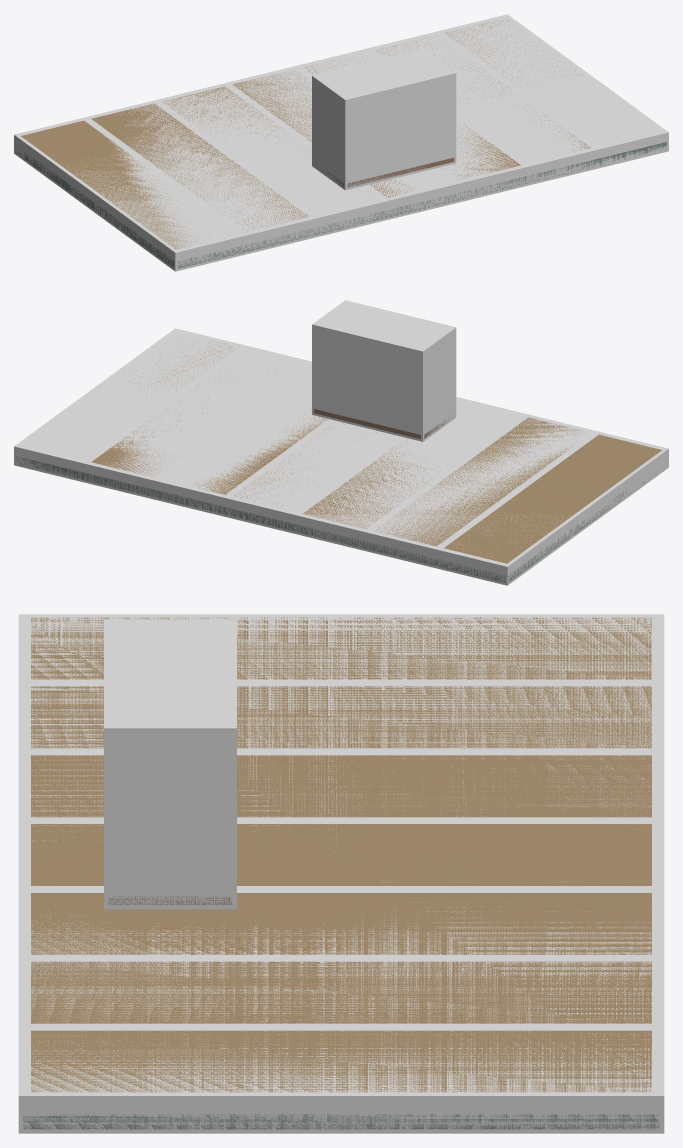
Rendered from env-dais-a.glb.
3 renders of one model, top to bottom at view 1: azimuth 30°, elevation 25°; view 2: azimuth 150°, elevation 25°; view 3: azimuth 270°, elevation 25°, orthographic. The views are drawn at different scales.
Visible parts, largest first — view 1: COL_dais, COL_lectern, VIS_dais_plank_1, VIS_dais_plank_2, VIS_dais_base, VIS_dais_plank_4, VIS_dais_plank_3, VIS_dais_plank_5, VIS_lectern_foot, VIS_dais_plank_7; view 2: COL_dais, COL_lectern, VIS_dais_plank_1, VIS_dais_plank_2, VIS_dais_base, VIS_dais_plank_3, VIS_dais_plank_5, VIS_dais_plank_6, VIS_lectern_foot; view 3: COL_dais, VIS_dais_plank_6, COL_lectern, VIS_dais_plank_7, VIS_dais_plank_5, VIS_dais_plank_3, VIS_dais_plank_4, VIS_dais_plank_2, VIS_dais_plank_1, VIS_dais_base.
Part boxes in pixels (x1=…): COL_dais: x1=14, y1=14, x2=668, y2=271; COL_lectern: x1=312, y1=49, x2=456, y2=190; VIS_dais_plank_1: x1=21, y1=120, x2=204, y2=249; VIS_dais_plank_2: x1=91, y1=103, x2=309, y2=230; VIS_dais_base: x1=17, y1=142, x2=666, y2=268; VIS_dais_plank_4: x1=233, y1=70, x2=413, y2=197; VIS_dais_plank_3: x1=163, y1=86, x2=370, y2=199; VIS_dais_plank_5: x1=305, y1=56, x2=520, y2=179; VIS_lectern_foot: x1=322, y1=157, x2=454, y2=187; VIS_dais_plank_7: x1=444, y1=18, x2=578, y2=85; COL_dais: x1=14, y1=328, x2=668, y2=585; COL_lectern: x1=312, y1=300, x2=456, y2=441; VIS_dais_plank_1: x1=444, y1=434, x2=661, y2=563; VIS_dais_plank_2: x1=374, y1=417, x2=581, y2=546; VIS_dais_base: x1=16, y1=456, x2=650, y2=582; VIS_dais_plank_3: x1=303, y1=439, x2=441, y2=528; VIS_dais_plank_5: x1=196, y1=414, x2=327, y2=494; VIS_dais_plank_6: x1=91, y1=359, x2=246, y2=476; VIS_lectern_foot: x1=314, y1=409, x2=453, y2=439; COL_dais: x1=18, y1=614, x2=664, y2=1133; VIS_dais_plank_6: x1=31, y1=961, x2=651, y2=1023; COL_lectern: x1=104, y1=620, x2=236, y2=909; VIS_dais_plank_7: x1=31, y1=1030, x2=651, y2=1092; VIS_dais_plank_5: x1=31, y1=893, x2=651, y2=954; VIS_dais_plank_3: x1=31, y1=755, x2=651, y2=817; VIS_dais_plank_4: x1=31, y1=824, x2=651, y2=885; VIS_dais_plank_2: x1=31, y1=686, x2=651, y2=748; VIS_dais_plank_1: x1=31, y1=617, x2=651, y2=679; VIS_dais_base: x1=23, y1=1114, x2=659, y2=1129.
Size of the model in its own units: 6 by 1.27 by 3.4.
